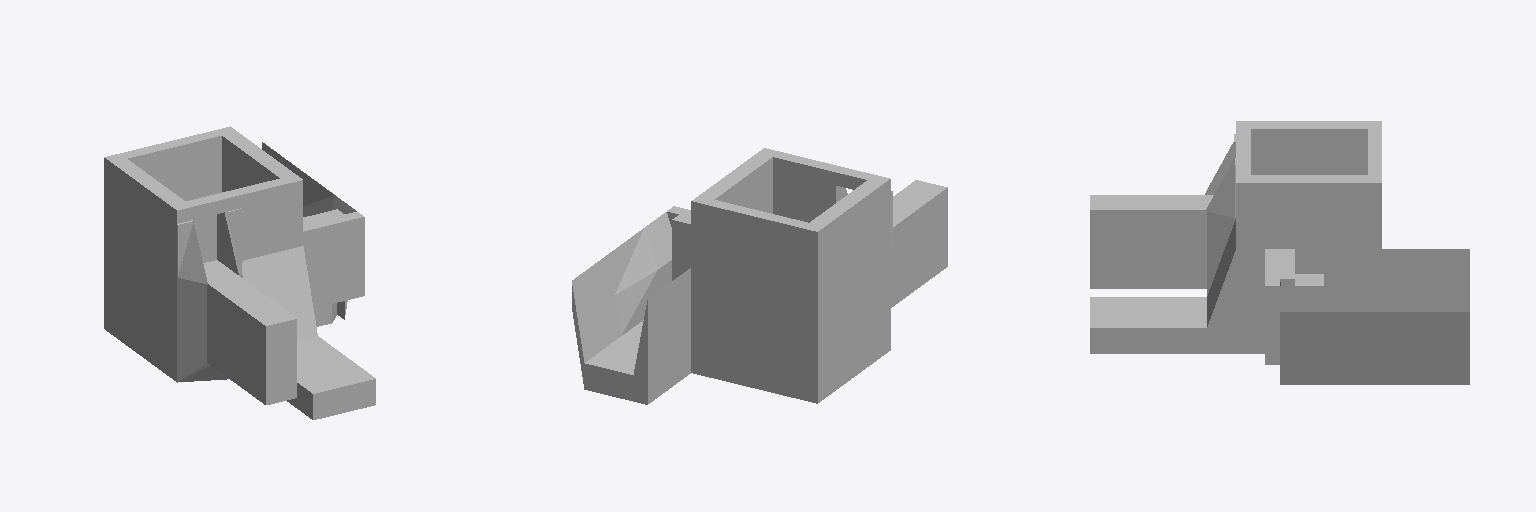
File: Level 2.obj
3 renders of one model, left to right at view 1: azimuth 30°, elevation 25°; view 2: azimuth 150°, elevation 25°; view 3: azimuth 270°, elevation 25°, orthographic.
Parts seen in each view (by area): view 1: Cube.005; view 2: Cube.005; view 3: Cube.005.
Boxes of the visible parts, x1,y1,x2,y2 form: Cube.005: [104, 126, 375, 419]; Cube.005: [572, 148, 947, 404]; Cube.005: [1090, 121, 1469, 384].
Size of the model in its own units: 16.05 by 13 by 26.